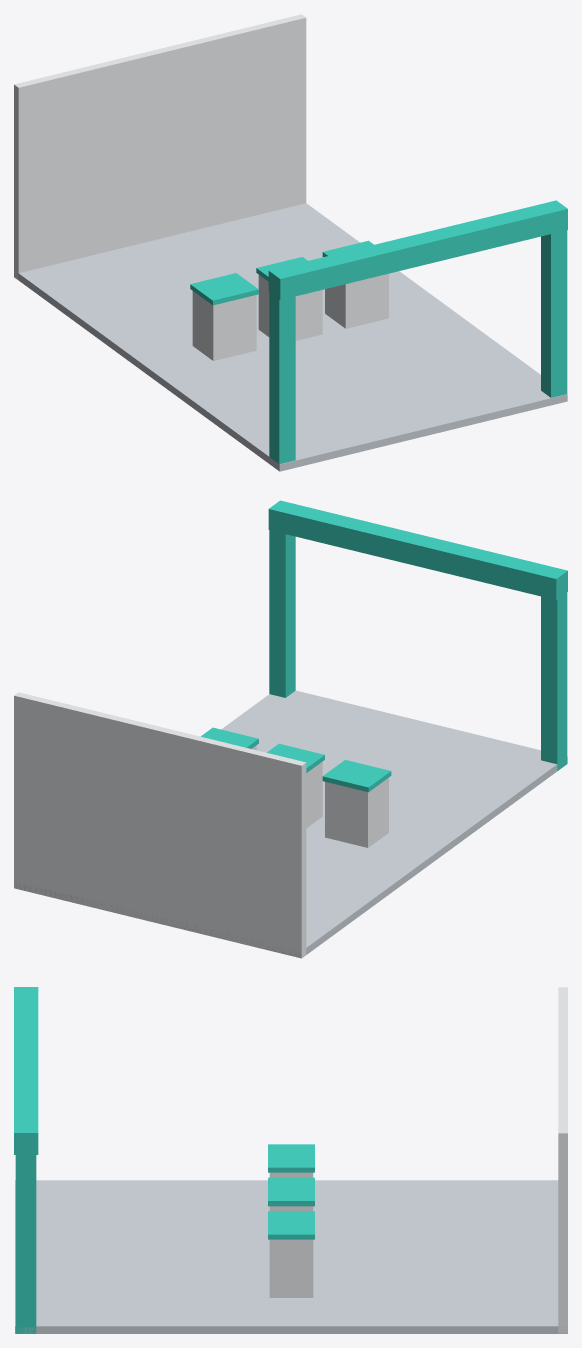
3 views of the same model, one above another, from view 1: azimuth 30°, elevation 25°; view 2: azimuth 150°, elevation 25°; view 3: azimuth 270°, elevation 25° (orthographic). The views are drawn at different scales.
Parts seen in each view (by area): view 1: Exhibition Booth Concept; view 2: Exhibition Booth Concept; view 3: Exhibition Booth Concept.
Boxes of the visible parts, box(x1,y1,x2,y2) form: Exhibition Booth Concept: box(14, 14, 567, 471); Exhibition Booth Concept: box(14, 500, 567, 958); Exhibition Booth Concept: box(14, 987, 567, 1333).
Size of the model in its own units: 5 by 3.2 by 8.01.
